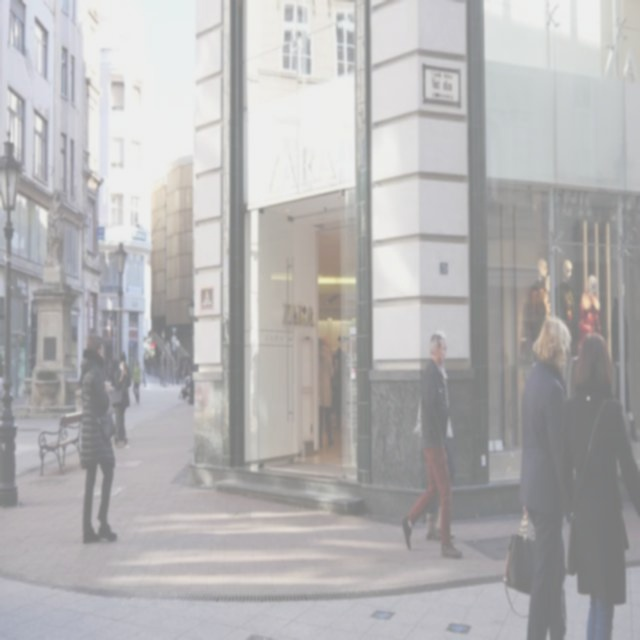pessoa: (556, 328, 640, 639), (500, 311, 579, 638), (398, 330, 464, 562), (74, 330, 119, 546), (410, 332, 452, 546), (524, 252, 602, 356), (608, 276, 634, 426), (110, 348, 132, 448), (318, 333, 336, 451), (44, 184, 66, 268), (334, 332, 346, 424), (177, 356, 194, 403), (130, 354, 142, 404)
